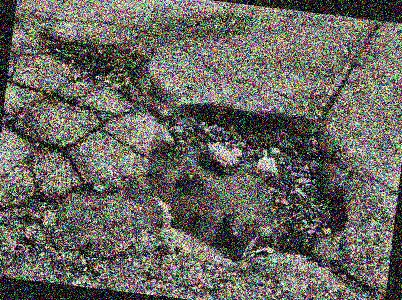pothole: (132, 94, 364, 276), (38, 33, 162, 111)
